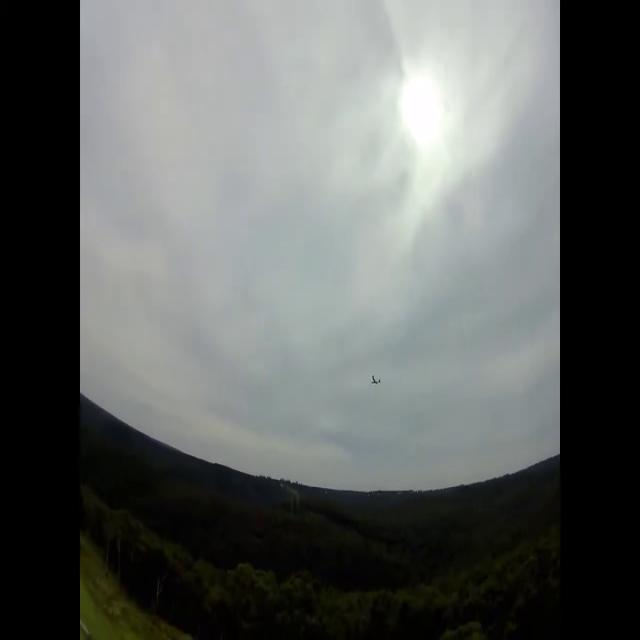iha: (375, 381, 377, 384)
